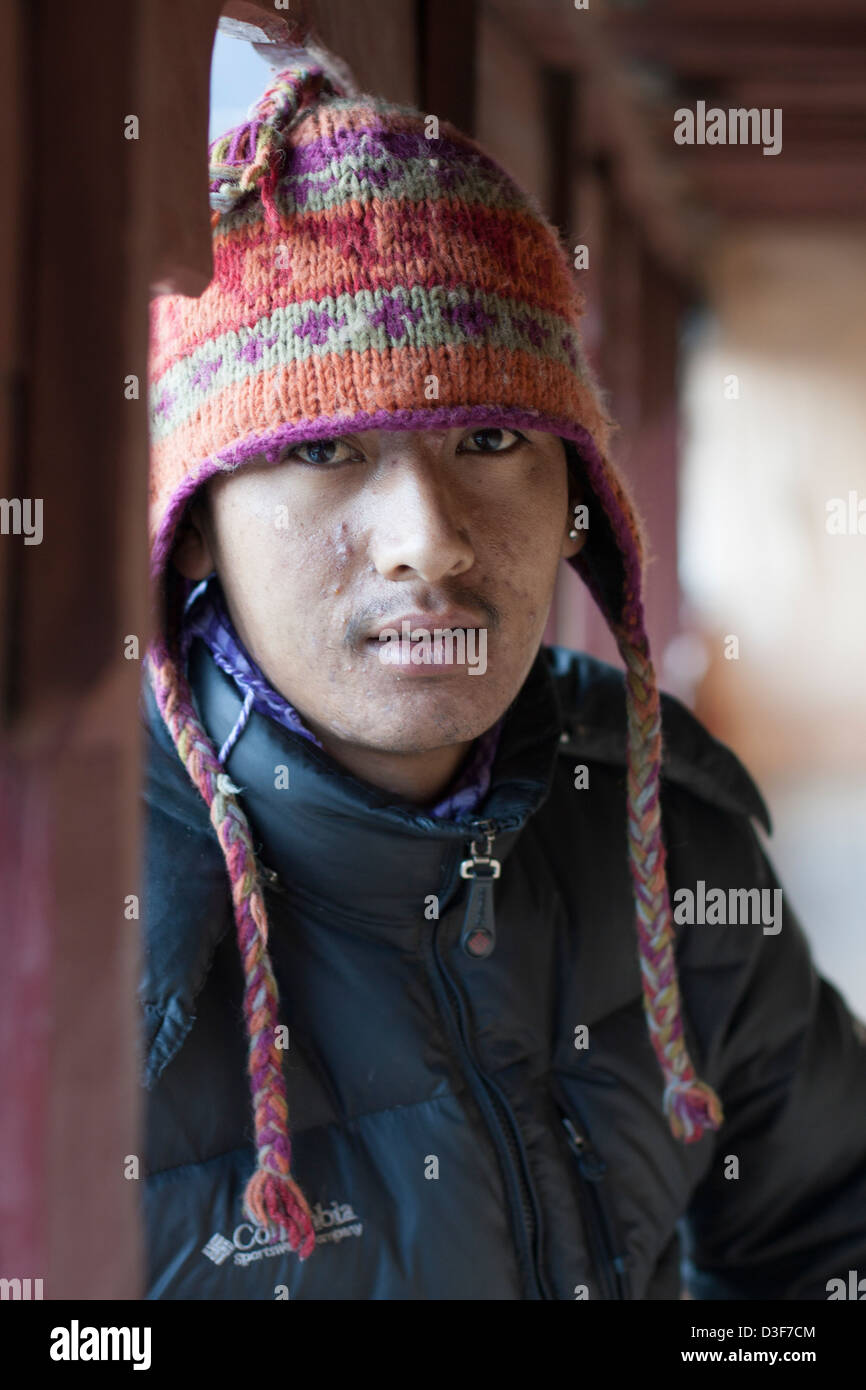human: (154, 35, 864, 1390)
